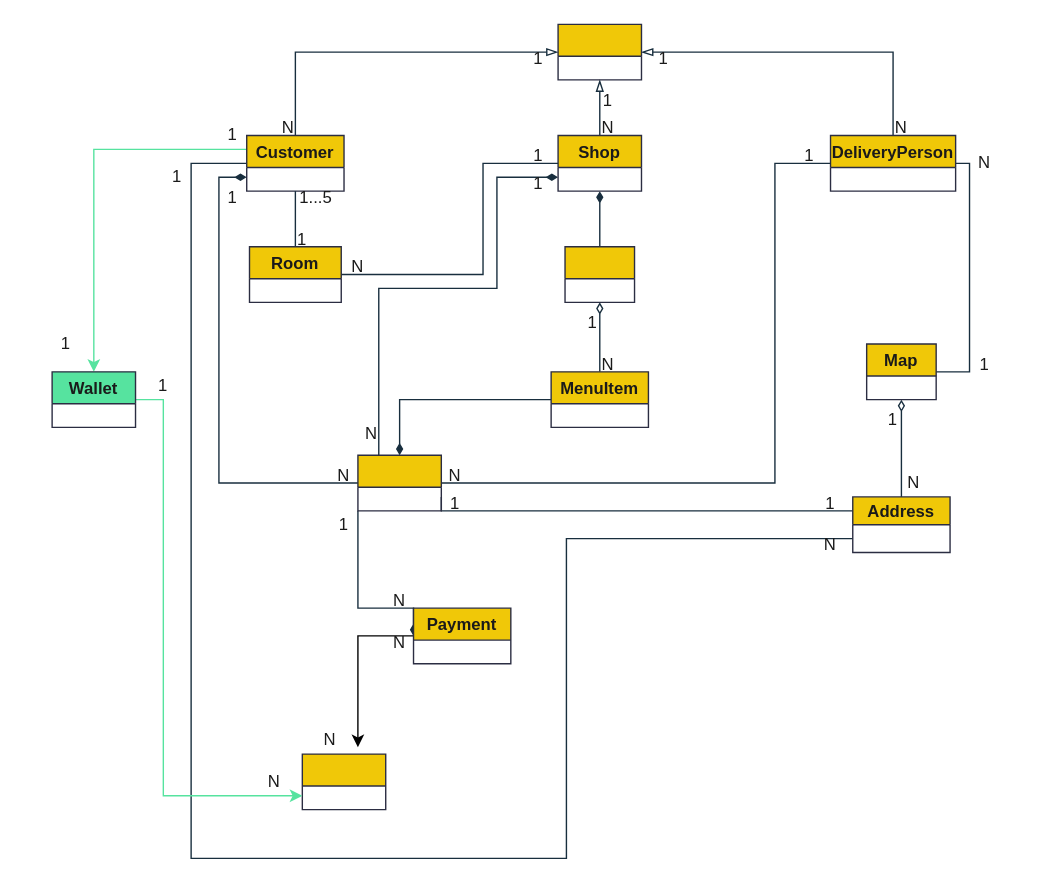
This 1049x884 diagram has some shape labels left out. The centre of each missing label's shape, as x and y in pixels:
"Card" goes at (343,781).
"Menu" goes at (599,273).
"Order" goes at (399,482).
"User" goes at (599,51).
